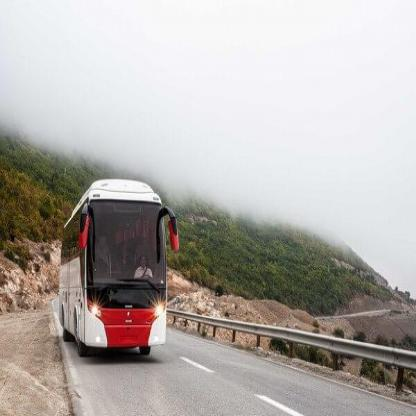Bus: (56, 178, 178, 364)
